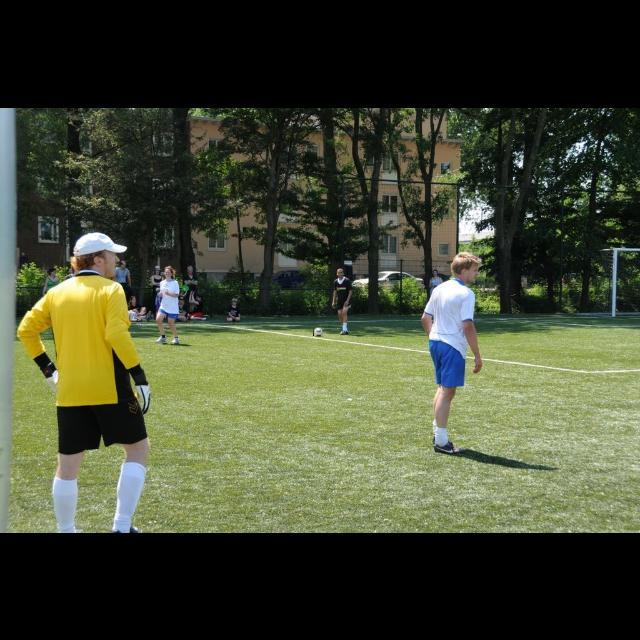Football: (313, 326, 321, 336)
